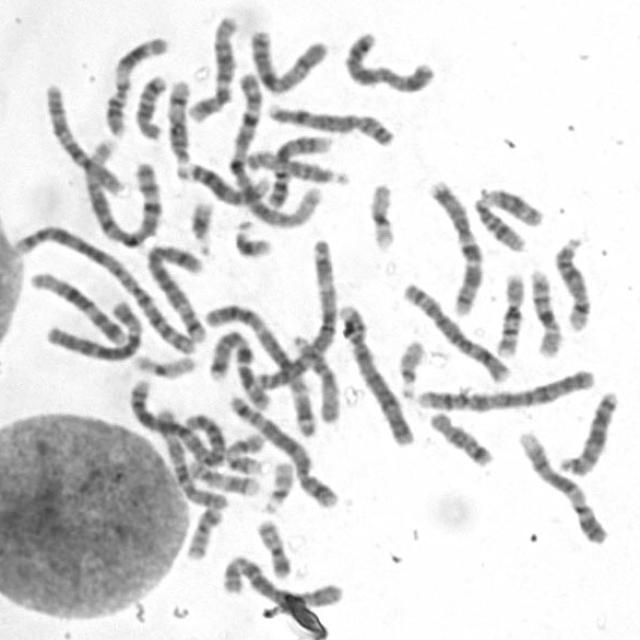A1: (225, 66, 323, 228), (80, 134, 165, 248)
A2: (10, 219, 210, 355), (124, 374, 230, 468)
A3: (202, 296, 321, 440), (249, 235, 342, 392)
B4: (334, 300, 416, 448), (415, 364, 599, 412)
B5: (222, 388, 341, 510), (140, 239, 208, 347)
C10: (39, 77, 126, 196), (153, 404, 230, 511)
C11: (100, 30, 170, 140), (471, 185, 542, 253)
C12: (25, 263, 128, 346), (183, 9, 240, 122)
C6: (219, 549, 345, 620), (40, 294, 146, 363)
C7: (423, 174, 487, 318), (206, 322, 276, 412)
C8: (398, 277, 514, 385), (262, 96, 397, 148)
C9: (512, 425, 611, 546), (261, 129, 335, 208)
D13: (554, 385, 621, 478), (179, 158, 272, 206)
D14: (549, 232, 594, 332), (162, 74, 194, 167)
D15: (287, 329, 343, 425), (240, 144, 352, 186)
E16: (525, 264, 565, 358), (491, 266, 526, 358)
E17: (184, 456, 261, 497), (220, 428, 268, 476)
E18: (425, 406, 496, 469), (130, 70, 168, 141)
F19: (364, 176, 398, 252), (128, 347, 200, 380)
F20: (251, 513, 294, 580), (180, 502, 225, 560)
G21: (230, 215, 276, 259), (186, 196, 216, 252)
G22: (393, 333, 427, 401), (259, 456, 296, 514)
X: (341, 26, 439, 96), (244, 22, 330, 95)
